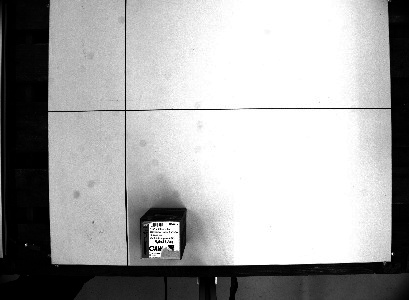b4: (137, 205, 188, 261)
